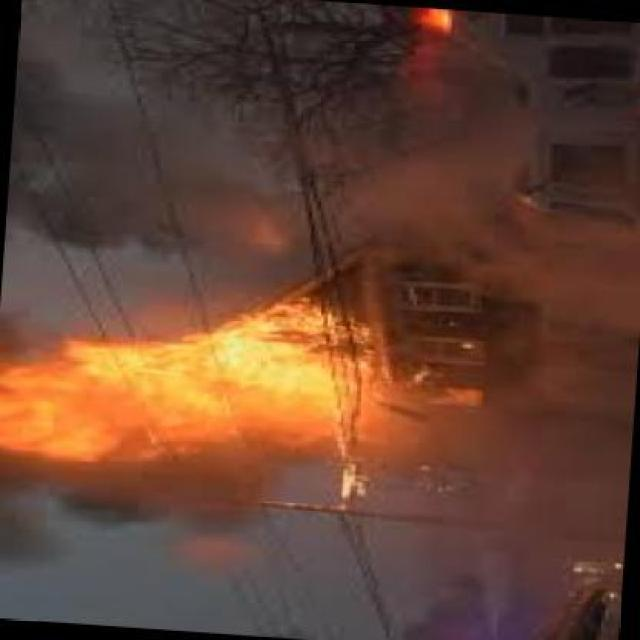Fire: (8, 296, 440, 502)
Smoke: (15, 54, 640, 295), (429, 234, 640, 638), (11, 470, 322, 602)
